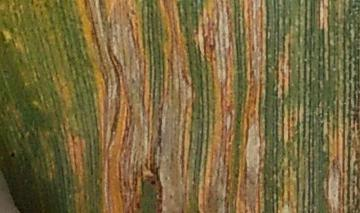tarspot: (149, 179, 157, 186), (8, 151, 17, 157)
